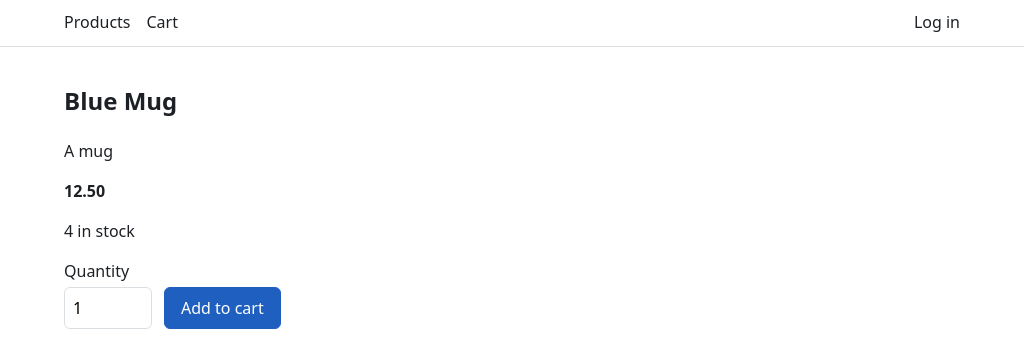
the product page › refuses more than is in stock, with a message instead of silence
The width and height of the screenshot is (1024, 357).
Replace the text in the number field labelled "Quantity" with "5" at (108, 308), box [64,287,152,329]
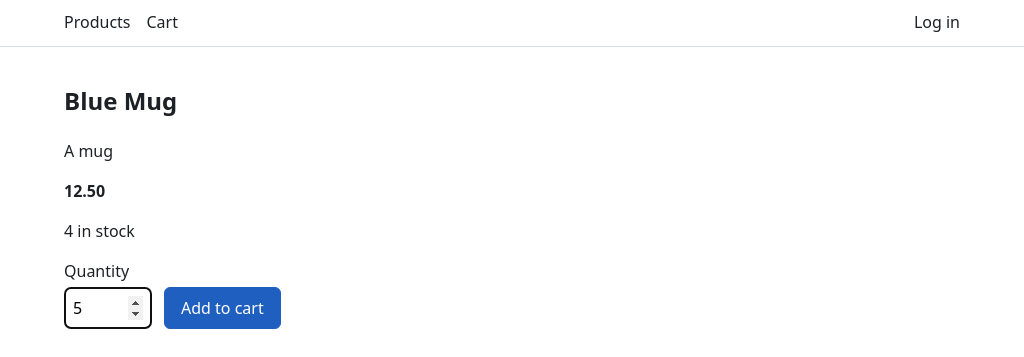
Click the button "Add to cart" at (222, 308), box [164,287,281,329]
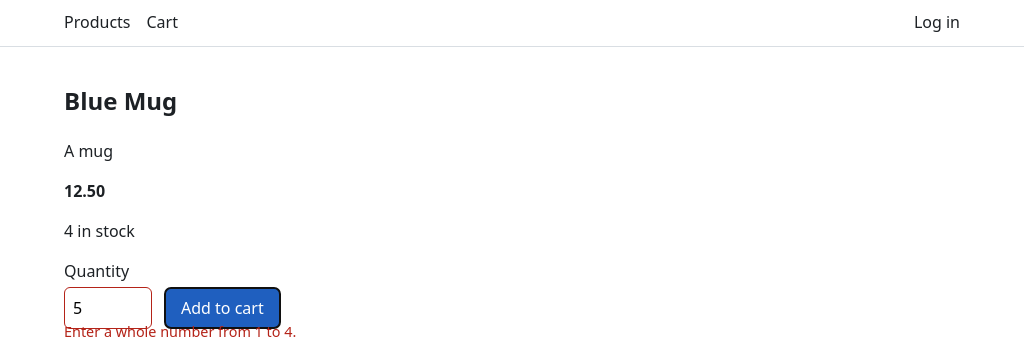
Expected: the text "Enter a whole number from 1 to 4." is shown, [64,322,296,341]
